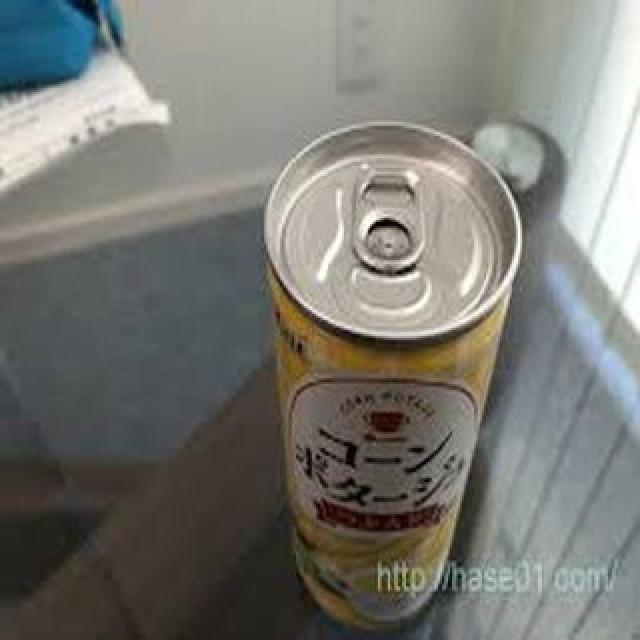Anorganik: (256, 123, 523, 628)
